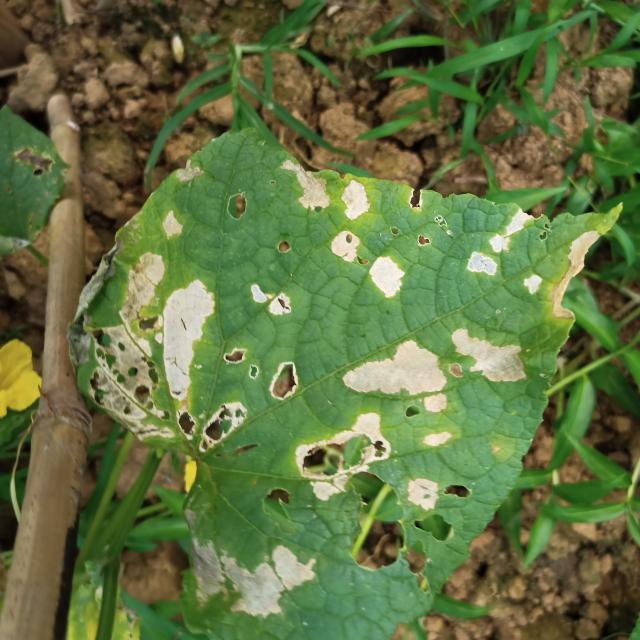disease_cucumber: (273, 142, 597, 418), (49, 158, 300, 448), (190, 401, 471, 622)
